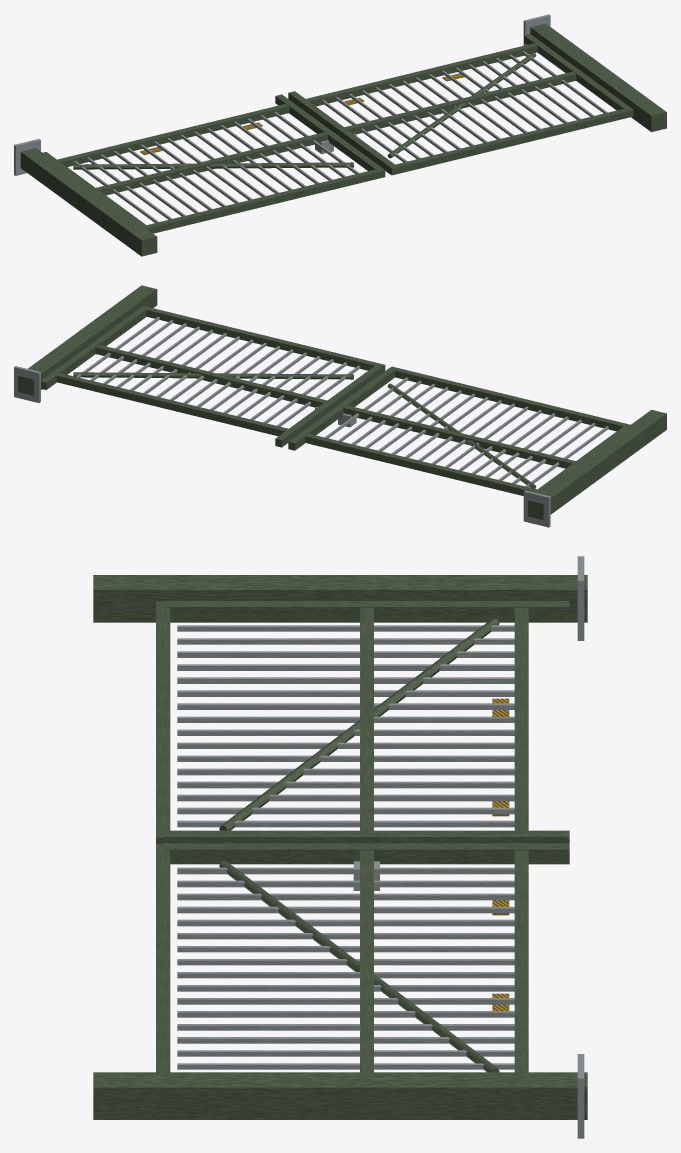
Rendered from Double_Swing_Gate_6m.glb.
3 renders of one model, top to bottom at view 1: azimuth 30°, elevation 25°; view 2: azimuth 150°, elevation 25°; view 3: azimuth 270°, elevation 25°, orthographic. The views are drawn at different scales.
Parts seen in each view (by area): view 1: Double_Swing_Gate_6m__LEFT_POST, Double_Swing_Gate_6m__RIGHT_POST, Double_Swing_Gate_6m__RIGHT_HORIZONTAL_RAIL_2.25, Double_Swing_Gate_6m__LEFT_HORIZONTAL_RAIL_2.25, Double_Swing_Gate_6m__RIGHT_HORIZONTAL_RAIL_0.35, Double_Swing_Gate_6m__LEFT_HORIZONTAL_RAIL_0.35, Double_Swing_Gate_6m__RIGHT_HORIZONTAL_RAIL_1.17, Double_Swing_Gate_6m__LEFT_HORIZONTAL_RAIL_1.17, Double_Swing_Gate_6m__RIGHT_UPRIGHT_TIP, Double_Swing_Gate_6m__LEFT_UPRIGHT_TIP, Double_Swing_Gate_6m__LEFT_CORNER_BRACE, Double_Swing_Gate_6m__RIGHT_UPRIGHT_HINGE (+5 smaller); view 2: Double_Swing_Gate_6m__LEFT_POST, Double_Swing_Gate_6m__RIGHT_POST, Double_Swing_Gate_6m__RIGHT_HORIZONTAL_RAIL_0.35, Double_Swing_Gate_6m__LEFT_HORIZONTAL_RAIL_0.35, Double_Swing_Gate_6m__RIGHT_HORIZONTAL_RAIL_2.25, Double_Swing_Gate_6m__LEFT_HORIZONTAL_RAIL_2.25, Double_Swing_Gate_6m__LEFT_HORIZONTAL_RAIL_1.17, Double_Swing_Gate_6m__RIGHT_HORIZONTAL_RAIL_1.17, Double_Swing_Gate_6m__RIGHT_UPRIGHT_TIP, Double_Swing_Gate_6m__LEFT_UPRIGHT_TIP, Double_Swing_Gate_6m__RIGHT_UPRIGHT_HINGE, Double_Swing_Gate_6m__RIGHT_CORNER_BRACE (+4 smaller); view 3: Double_Swing_Gate_6m__RIGHT_POST, Double_Swing_Gate_6m__LEFT_POST, Double_Swing_Gate_6m__RIGHT_UPRIGHT_TIP, Double_Swing_Gate_6m__LEFT_UPRIGHT_HINGE, Double_Swing_Gate_6m__LEFT_UPRIGHT_TIP, Double_Swing_Gate_6m__LEFT_HORIZONTAL_RAIL_2.25, Double_Swing_Gate_6m__LEFT_HORIZONTAL_RAIL_0.35, Double_Swing_Gate_6m__RIGHT_HORIZONTAL_RAIL_2.25, Double_Swing_Gate_6m__RIGHT_HORIZONTAL_RAIL_0.35, Double_Swing_Gate_6m__LEFT_HORIZONTAL_RAIL_1.17, Double_Swing_Gate_6m__RIGHT_HORIZONTAL_RAIL_1.17, Double_Swing_Gate_6m__LEFT_CORNER_BRACE (+33 smaller).
Boxes of the visible parts, <box> form: Double_Swing_Gate_6m__LEFT_POST: <box>20,148,157,256</box>; Double_Swing_Gate_6m__RIGHT_POST: <box>530,23,666,132</box>; Double_Swing_Gate_6m__RIGHT_HORIZONTAL_RAIL_2.25: <box>390,108,633,175</box>; Double_Swing_Gate_6m__LEFT_HORIZONTAL_RAIL_2.25: <box>144,169,385,233</box>; Double_Swing_Gate_6m__RIGHT_HORIZONTAL_RAIL_0.35: <box>306,43,537,106</box>; Double_Swing_Gate_6m__LEFT_HORIZONTAL_RAIL_0.35: <box>57,104,289,166</box>; Double_Swing_Gate_6m__RIGHT_HORIZONTAL_RAIL_1.17: <box>337,71,576,135</box>; Double_Swing_Gate_6m__LEFT_HORIZONTAL_RAIL_1.17: <box>96,132,327,195</box>; Double_Swing_Gate_6m__RIGHT_UPRIGHT_TIP: <box>288,91,396,173</box>; Double_Swing_Gate_6m__LEFT_UPRIGHT_TIP: <box>275,94,383,170</box>; Double_Swing_Gate_6m__LEFT_CORNER_BRACE: <box>73,162,353,169</box>; Double_Swing_Gate_6m__RIGHT_UPRIGHT_HINGE: <box>524,34,631,110</box>; Double_Swing_Gate_6m__LEFT_POST: <box>528,409,666,520</box>; Double_Swing_Gate_6m__RIGHT_POST: <box>18,285,157,395</box>; Double_Swing_Gate_6m__RIGHT_HORIZONTAL_RAIL_0.35: <box>56,373,295,436</box>; Double_Swing_Gate_6m__LEFT_HORIZONTAL_RAIL_0.35: <box>305,434,536,495</box>; Double_Swing_Gate_6m__RIGHT_HORIZONTAL_RAIL_2.25: <box>142,306,385,371</box>; Double_Swing_Gate_6m__LEFT_HORIZONTAL_RAIL_2.25: <box>390,366,630,431</box>; Double_Swing_Gate_6m__LEFT_HORIZONTAL_RAIL_1.17: <box>344,405,575,468</box>; Double_Swing_Gate_6m__RIGHT_HORIZONTAL_RAIL_1.17: <box>95,345,327,407</box>; Double_Swing_Gate_6m__RIGHT_UPRIGHT_TIP: <box>275,364,383,447</box>; Double_Swing_Gate_6m__LEFT_UPRIGHT_TIP: <box>288,367,396,450</box>; Double_Swing_Gate_6m__RIGHT_UPRIGHT_HINGE: <box>41,307,147,389</box>; Double_Swing_Gate_6m__RIGHT_CORNER_BRACE: <box>73,372,353,379</box>; Double_Swing_Gate_6m__RIGHT_POST: <box>93,1072,587,1119</box>; Double_Swing_Gate_6m__LEFT_POST: <box>93,575,587,622</box>; Double_Swing_Gate_6m__RIGHT_UPRIGHT_TIP: <box>164,843,569,864</box>; Double_Swing_Gate_6m__LEFT_UPRIGHT_HINGE: <box>164,601,569,621</box>; Double_Swing_Gate_6m__LEFT_UPRIGHT_TIP: <box>164,830,569,843</box>; Double_Swing_Gate_6m__LEFT_HORIZONTAL_RAIL_2.25: <box>156,601,170,843</box>; Double_Swing_Gate_6m__LEFT_HORIZONTAL_RAIL_0.35: <box>514,607,528,843</box>; Double_Swing_Gate_6m__RIGHT_HORIZONTAL_RAIL_2.25: <box>156,844,170,1072</box>; Double_Swing_Gate_6m__RIGHT_HORIZONTAL_RAIL_0.35: <box>514,850,528,1072</box>; Double_Swing_Gate_6m__LEFT_HORIZONTAL_RAIL_1.17: <box>360,607,373,843</box>; Double_Swing_Gate_6m__RIGHT_HORIZONTAL_RAIL_1.17: <box>360,850,373,1072</box>; Double_Swing_Gate_6m__LEFT_CORNER_BRACE: <box>219,618,499,830</box>.
Bounding box in the file's own units: 6.55 × 0.35 × 2.62.
3 materials, 3 textured.
